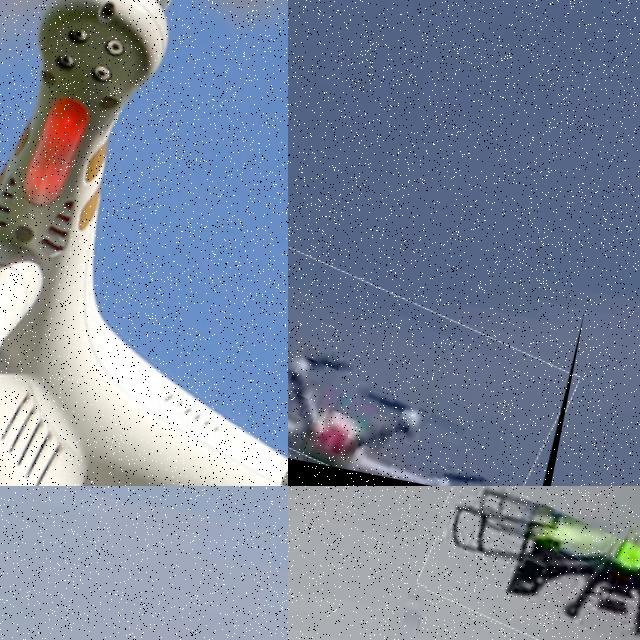0: (288, 233, 585, 486), (415, 486, 640, 640)
drone: (0, 0, 288, 486)
